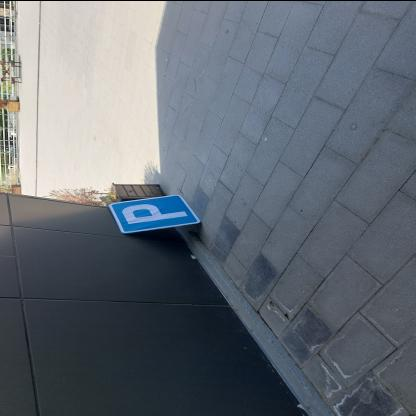Parking-Sign: (109, 195, 201, 235)
